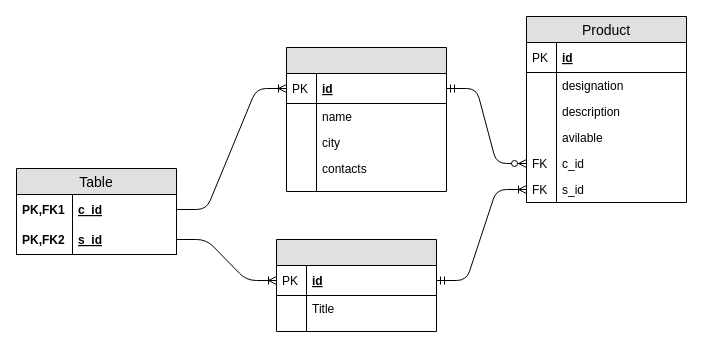
This 703x348 diagram has some shape labels left out. The box of each missing label's shape, as (x1, y1, x2, y2) in pixels:
Customer: (286, 46, 446, 192)
Supplier: (276, 238, 436, 332)
